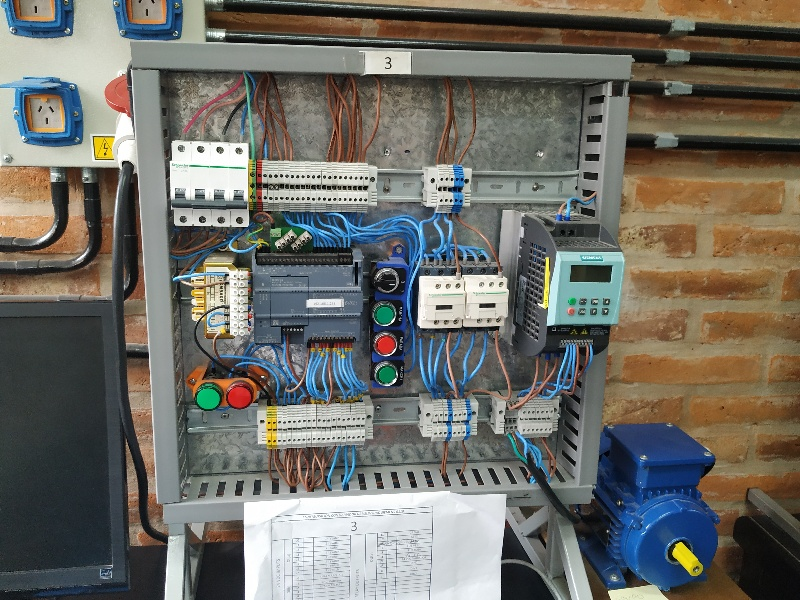Tablero 3: (150, 56, 628, 500)
